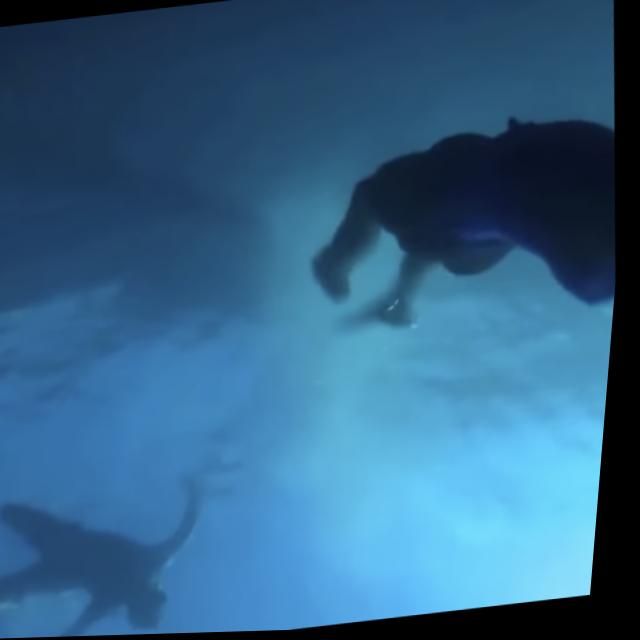human: (276, 53, 636, 468), (0, 462, 228, 640)
